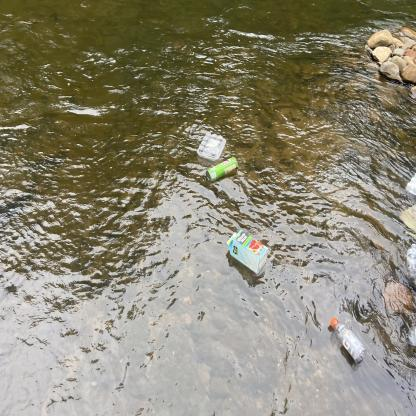trash: (225, 225, 272, 280), (326, 314, 368, 369), (200, 151, 242, 189), (195, 127, 229, 165), (398, 199, 416, 236), (405, 243, 416, 280), (404, 170, 416, 200), (407, 323, 416, 348)
